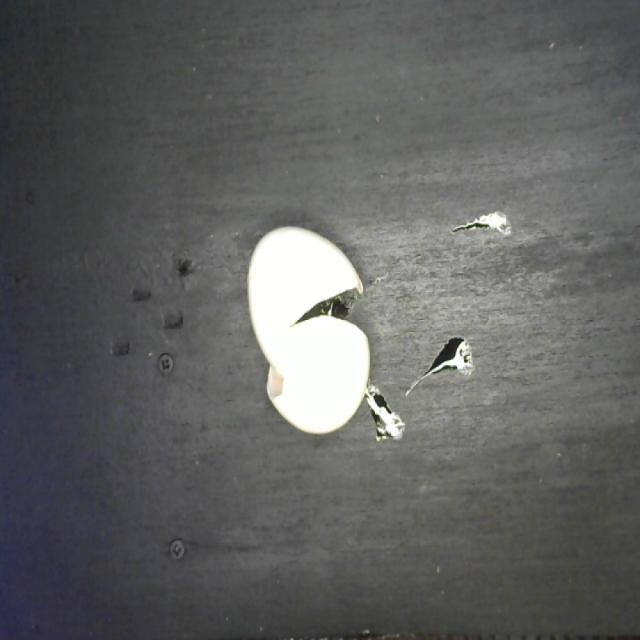biodegradable: (243, 218, 374, 441)
